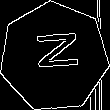N_W: (28, 35, 80, 79)
